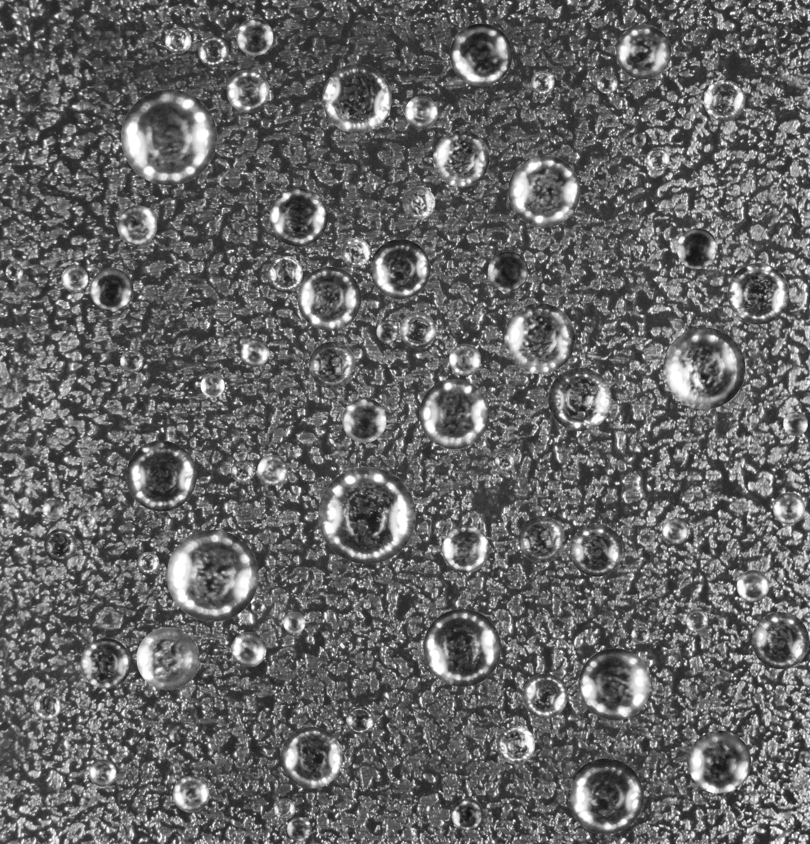Bubble: (318, 466, 415, 564), (121, 89, 216, 185), (166, 529, 258, 621), (663, 327, 745, 409), (423, 609, 501, 686), (568, 758, 643, 834), (578, 648, 650, 720), (508, 155, 580, 227), (504, 303, 575, 373), (126, 440, 196, 511), (419, 379, 489, 449), (322, 63, 391, 133), (297, 266, 361, 330), (548, 367, 611, 431), (688, 730, 751, 793), (136, 627, 199, 690), (449, 23, 512, 86), (727, 263, 789, 324), (281, 727, 342, 788), (370, 239, 430, 299), (269, 188, 327, 246), (752, 612, 809, 669), (433, 130, 489, 186), (616, 24, 671, 79), (570, 524, 622, 576), (80, 638, 130, 688), (308, 341, 355, 388), (442, 525, 489, 572), (518, 516, 565, 562), (522, 673, 567, 718), (342, 398, 386, 442), (226, 69, 269, 112), (90, 268, 133, 311), (704, 80, 745, 121), (487, 251, 528, 291), (117, 205, 157, 245), (677, 228, 717, 268), (497, 726, 535, 764), (236, 18, 273, 55), (172, 776, 209, 812), (400, 312, 436, 348), (231, 632, 266, 667), (268, 255, 302, 290), (402, 186, 435, 219), (736, 570, 769, 602), (44, 529, 76, 561), (405, 96, 437, 128), (773, 492, 805, 524), (451, 798, 483, 830), (449, 343, 480, 375), (198, 36, 228, 66), (257, 455, 287, 485), (341, 238, 370, 267), (240, 338, 269, 366), (345, 706, 373, 734), (32, 692, 60, 720), (89, 759, 116, 786), (61, 265, 88, 292), (164, 27, 191, 53), (662, 518, 688, 544), (200, 373, 224, 397), (287, 817, 311, 841), (783, 411, 807, 435), (646, 148, 670, 171), (120, 349, 143, 372), (531, 71, 554, 94), (376, 320, 398, 342), (283, 611, 305, 633), (686, 609, 708, 631), (231, 460, 253, 482), (137, 552, 159, 573), (42, 499, 63, 520), (274, 798, 295, 819), (494, 451, 514, 471), (597, 73, 617, 93), (77, 512, 95, 530), (631, 625, 649, 643), (5, 263, 23, 280), (251, 600, 265, 614), (632, 133, 646, 146)
